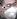with_mask: (2, 1, 17, 19)
